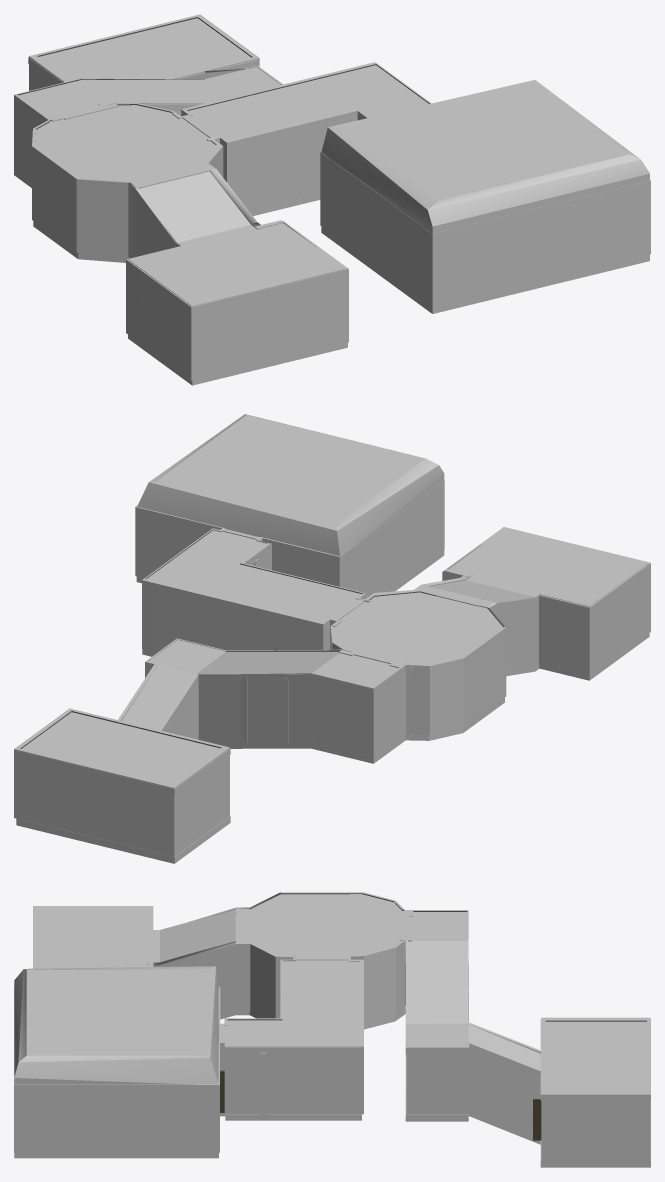
File: GraveOfHero3DModel.fbx
3 renders of one model, top to bottom at view 1: azimuth 30°, elevation 25°; view 2: azimuth 150°, elevation 25°; view 3: azimuth 270°, elevation 25°, orthographic. The views are drawn at different scales.
Parts seen in each view (by area): view 1: Cube__14_, Cube__10__01, Cube__15_, Cube__2__00; view 2: Cube__10__01, Cube__14_, Cube__15_, Cube__2__00, Cube__1__00; view 3: Cube__14_, Cube__10__01, Cube__15_, Cube__2__00, Cube__1__00, Cube_12.
Boxes of the visible parts, x1=… form: Cube__14_: x1=18, y1=65, x2=649, y2=306; Cube__10__01: x1=14, y1=14, x2=650, y2=380; Cube__15_: x1=28, y1=18, x2=257, y2=84; Cube__2__00: x1=14, y1=168, x2=649, y2=385; Cube__10__01: x1=14, y1=480, x2=650, y2=856; Cube__14_: x1=122, y1=414, x2=649, y2=729; Cube__15_: x1=16, y1=712, x2=230, y2=795; Cube__2__00: x1=136, y1=550, x2=649, y2=763; Cube__1__00: x1=16, y1=816, x2=230, y2=863; Cube__14_: x1=14, y1=894, x2=540, y2=1084; Cube__10__01: x1=14, y1=892, x2=650, y2=1162; Cube__15_: x1=540, y1=1019, x2=650, y2=1100; Cube__2__00: x1=14, y1=1006, x2=540, y2=1158; Cube__1__00: x1=540, y1=1101, x2=650, y2=1167; Cube_12: x1=260, y1=1052, x2=266, y2=1116.
Size of the model in its own units: 69057 by 24585 by 92228.
